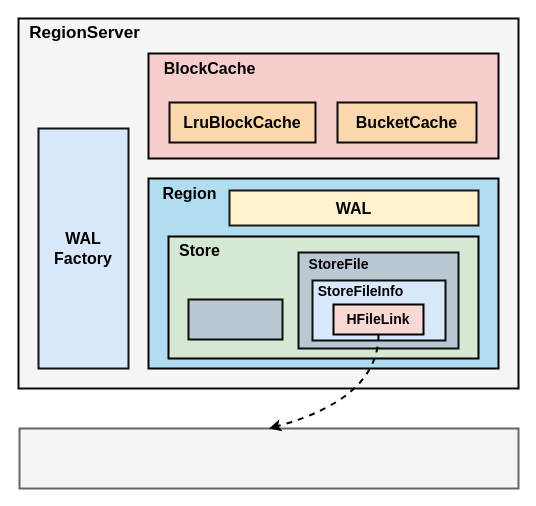
Some shapes in this 536 by 506 pixel diagram are drawn without their labels. The centre of each missing label's shape, as x and y in pixels:
"HDFS" goes at [268,458].
"MemStore" goes at [235,319].
